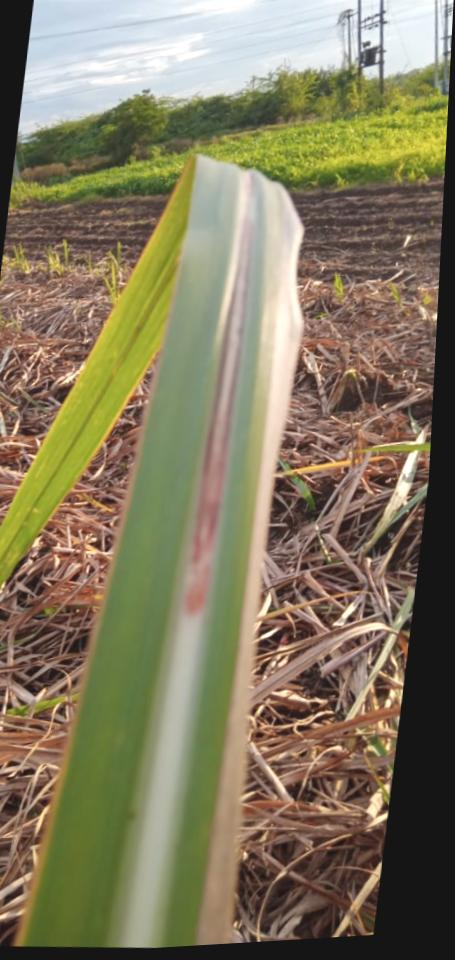RedRot: (182, 219, 253, 617)
